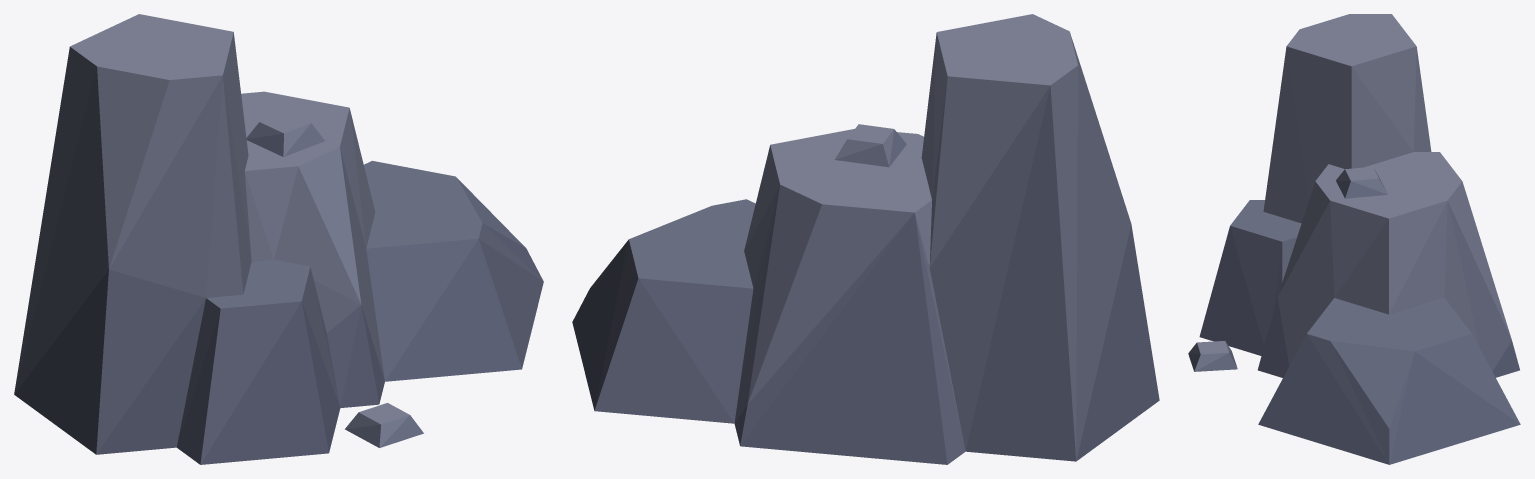
File: rock-c.glb
The picture shows the model from 3 angles, left to right: view 1: azimuth 30°, elevation 25°; view 2: azimuth 150°, elevation 25°; view 3: azimuth 270°, elevation 25°; orthographic projection. The views are drawn at different scales.
Parts seen in each view (by area): view 1: c60657d, c676c84, c6e738a, c747990, c7a7f97, c81869c, c71768d, c777c94, c7d829a, c636980, c6a7087; view 2: c676c84, c6e738a, c60657d, c81869c, c777c94, c7a7f97, c747990, c6a7087, c7d829a; view 3: c60657d, c6e738a, c777c94, c747990, c81869c, c676c84, c7a7f97, c6a7087, c7d829a, c636980, c5c627a.
Boxes of the visible parts, x1,y1,x2,y2 form: c60657d: (14, 239, 543, 464); c676c84: (96, 123, 542, 464); c6e738a: (14, 67, 482, 393); c747990: (14, 47, 409, 447); c7a7f97: (97, 66, 366, 303); c81869c: (70, 14, 409, 424); c71768d: (109, 75, 222, 297); c777c94: (223, 32, 273, 261); c7d829a: (245, 166, 298, 259); c636980: (311, 223, 543, 407); c6a7087: (456, 177, 525, 247); c676c84: (594, 86, 1076, 464); c6e738a: (629, 65, 1131, 460); c60657d: (572, 224, 1159, 461); c81869c: (770, 14, 1077, 212); c777c94: (747, 33, 936, 404); c7a7f97: (744, 34, 1126, 267); c747990: (744, 65, 1077, 460); c6a7087: (734, 186, 913, 445); c7d829a: (915, 33, 947, 267); c60657d: (1199, 226, 1520, 464); c6e738a: (1230, 200, 1479, 365); c777c94: (1286, 46, 1511, 339); c747990: (1188, 47, 1447, 371); c81869c: (1197, 14, 1462, 354); c676c84: (1188, 171, 1520, 463); c7a7f97: (1278, 181, 1446, 313); c6a7087: (1282, 201, 1511, 428); c7d829a: (1352, 46, 1416, 151); c636980: (1272, 242, 1414, 464); c5c627a: (1492, 341, 1519, 377).
Size of the model in its own units: 0.7837 by 0.51 by 0.5659.
